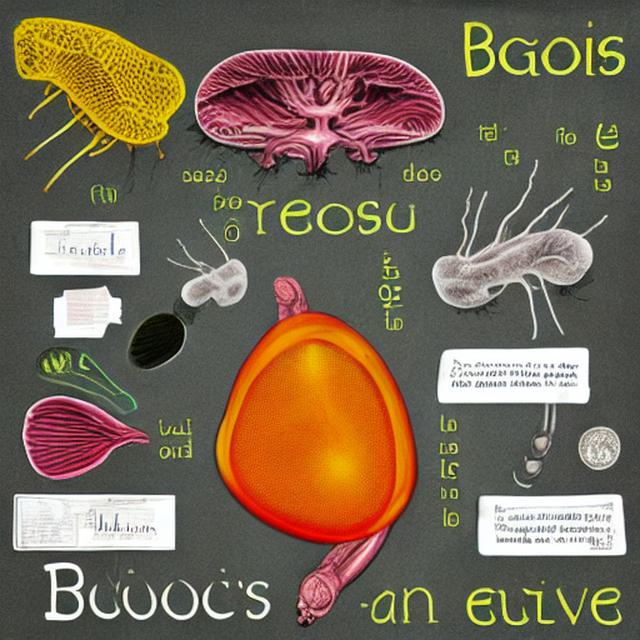Graph: (82, 500, 156, 544), (58, 223, 128, 265)
